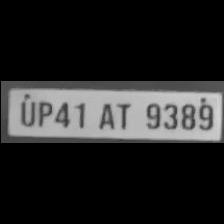1: (71, 99, 91, 129)
3: (160, 100, 178, 130)
4: (51, 98, 71, 128)
8: (177, 100, 195, 132)
9: (140, 100, 164, 130), (196, 99, 214, 131)
A: (92, 98, 116, 130)
P: (33, 98, 51, 127)
T: (113, 98, 134, 130)
U: (14, 97, 34, 127)
